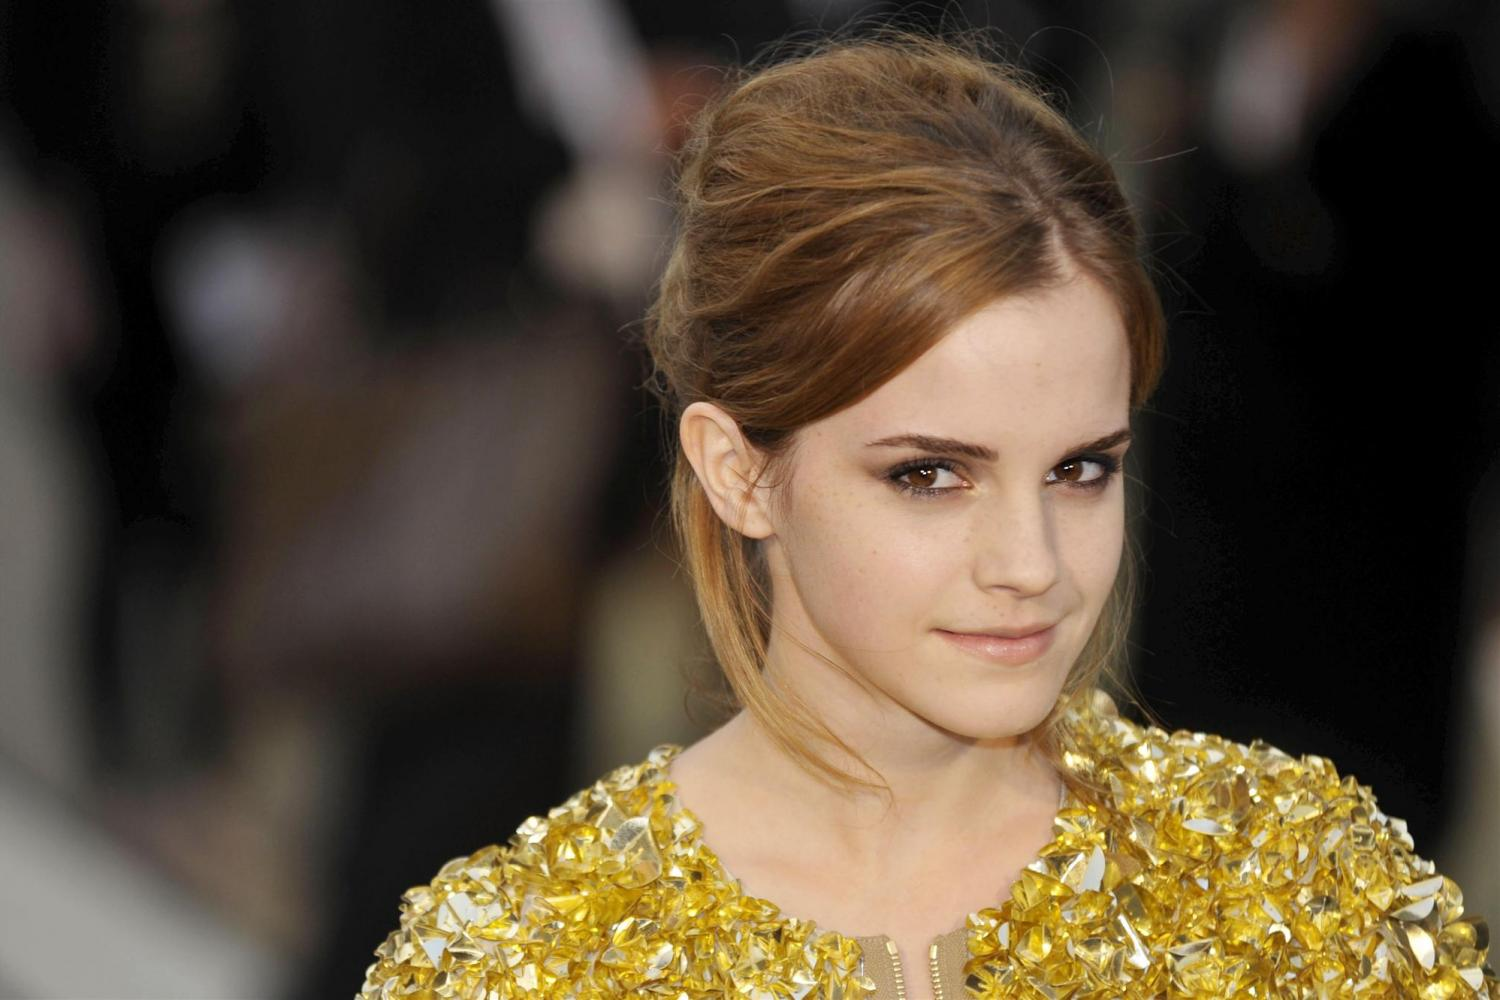NoMask: (825, 416, 1129, 744)
